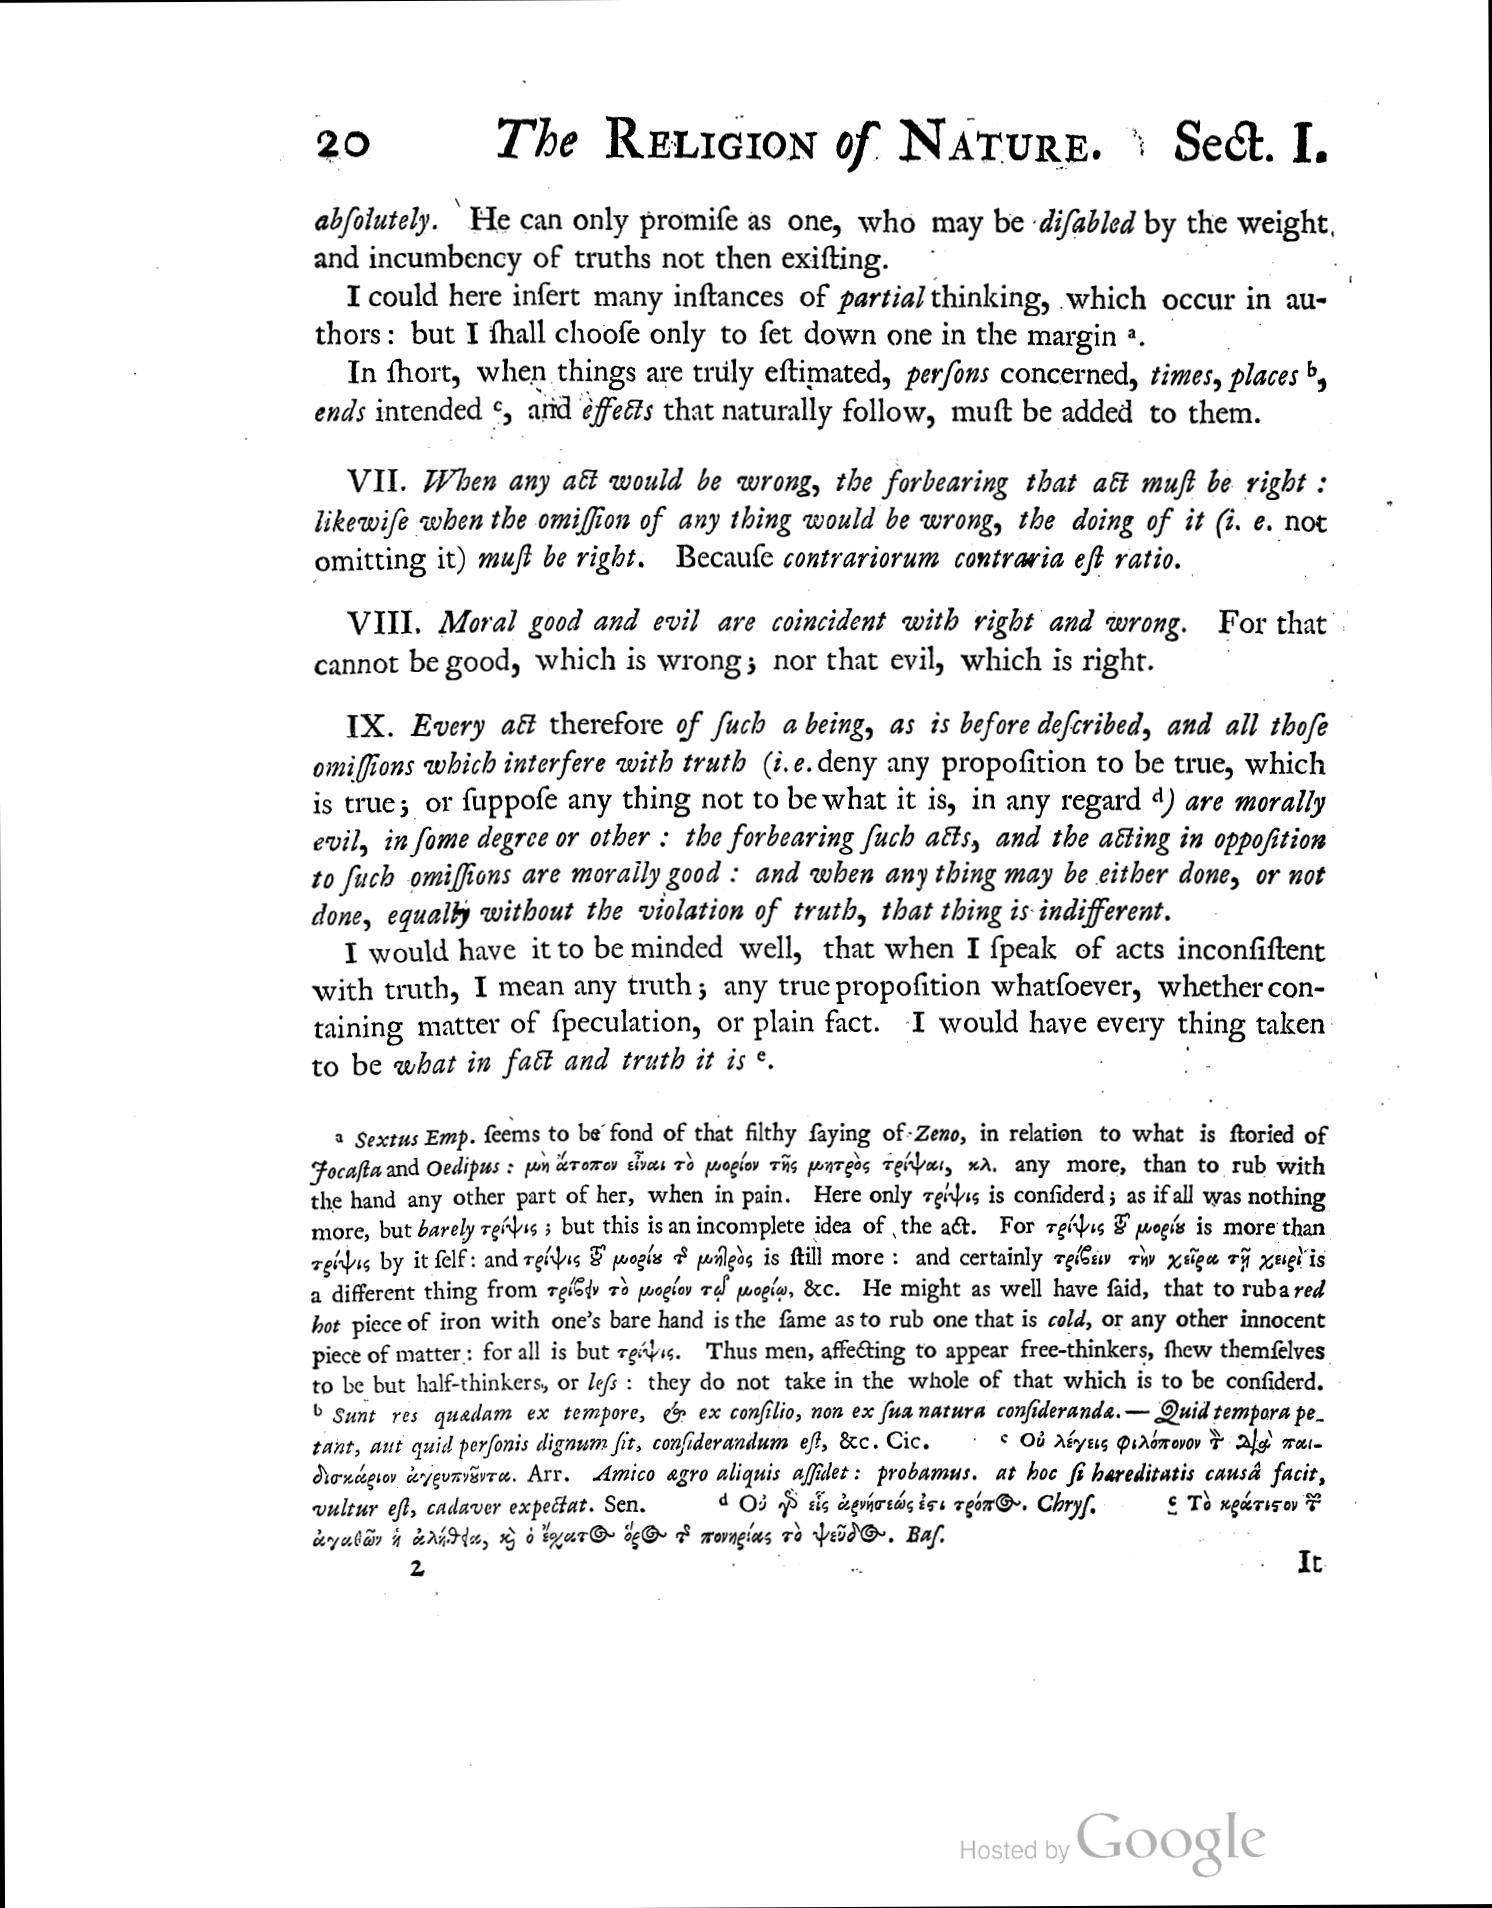bottom_p: (308, 189, 1346, 279)
catchword: (1286, 1543, 1332, 1584)
footnotes: (305, 1124, 1331, 1547)
full_p: (305, 706, 1343, 929), (305, 932, 1342, 1076), (305, 460, 1342, 581), (305, 601, 1343, 689), (310, 352, 1348, 434), (308, 276, 1348, 355)
header: (486, 94, 1346, 187)
page_num: (310, 115, 375, 167)
signature: (397, 1550, 435, 1584)
